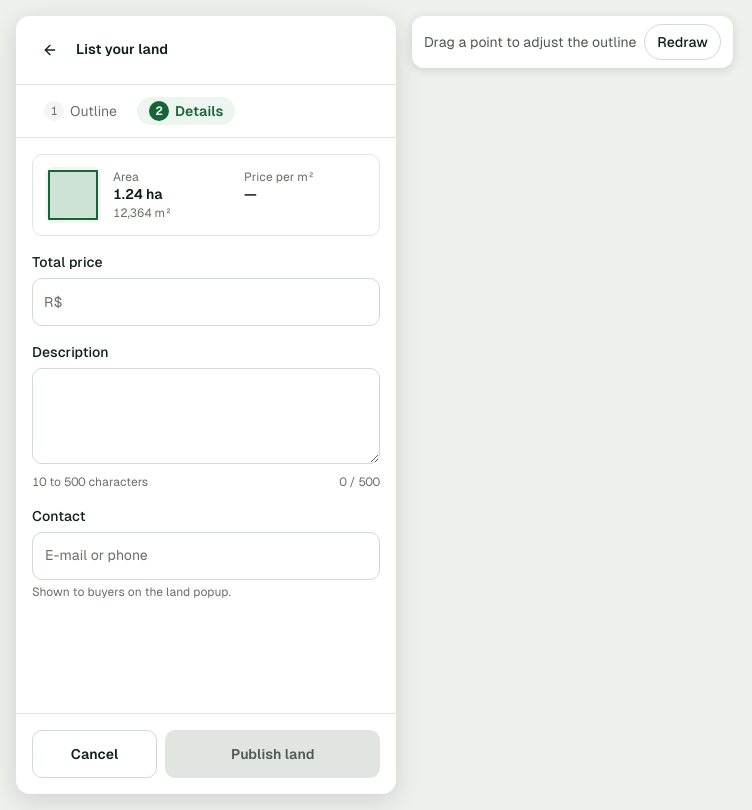
Test: NewLandSession › treats a backend 409 as an overlap, keeping the form filled
Step 1. Type "185000" into the field labelled "Total price" → (206, 302), box x1=32 y1=278 x2=380 y2=326
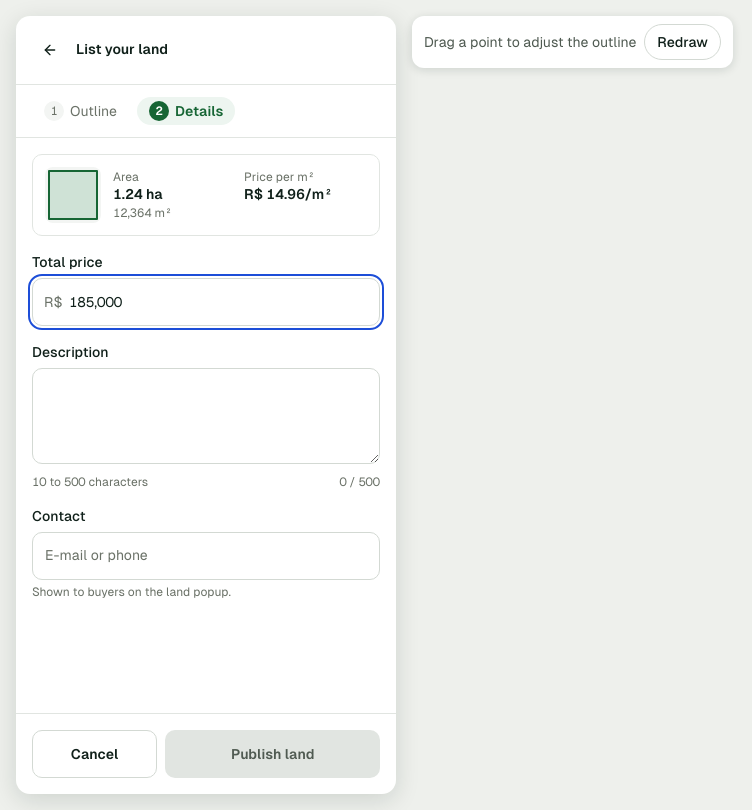
Step 2. Type "Flat land close to the river, ready to build." into the text box labelled "Description" → (206, 416), box x1=32 y1=368 x2=380 y2=464
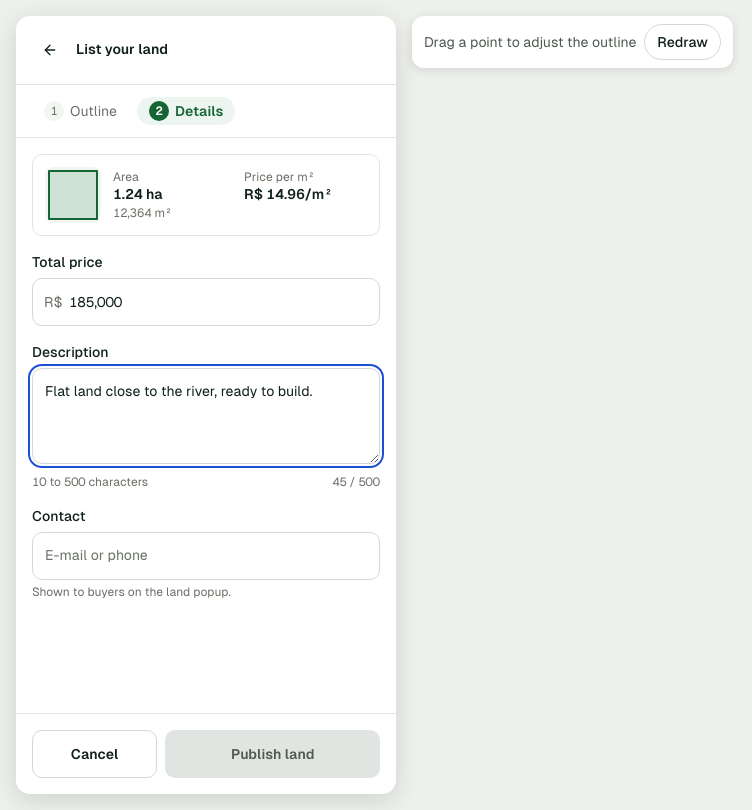
Step 3. Type "owner@example.com" into the field labelled "Contact" → (206, 556), box x1=32 y1=532 x2=380 y2=580
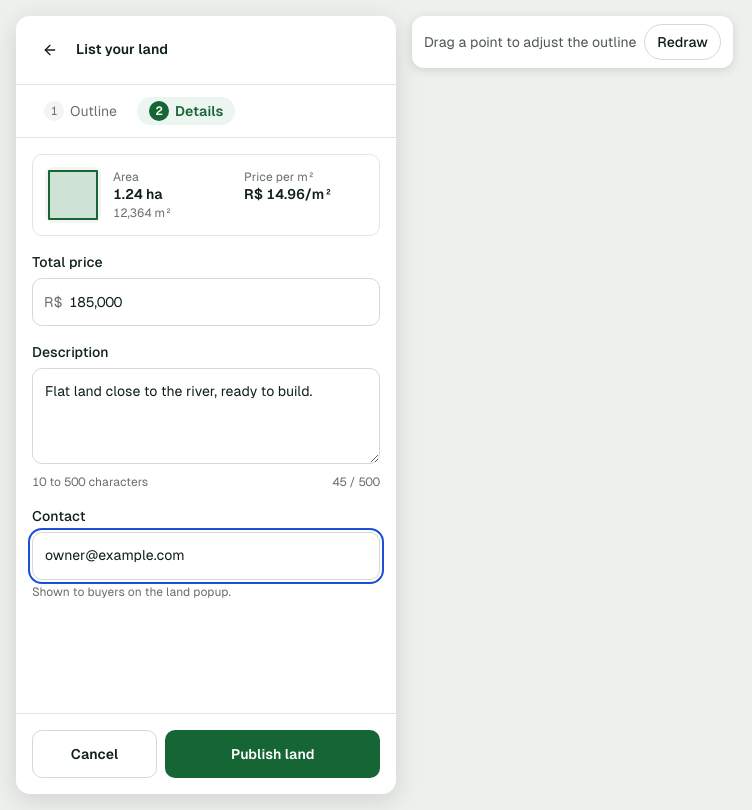
Now the button "Publish land" is enabled
Step 4. Click the button "Publish land" → (273, 754), box x1=165 y1=730 x2=380 y2=778
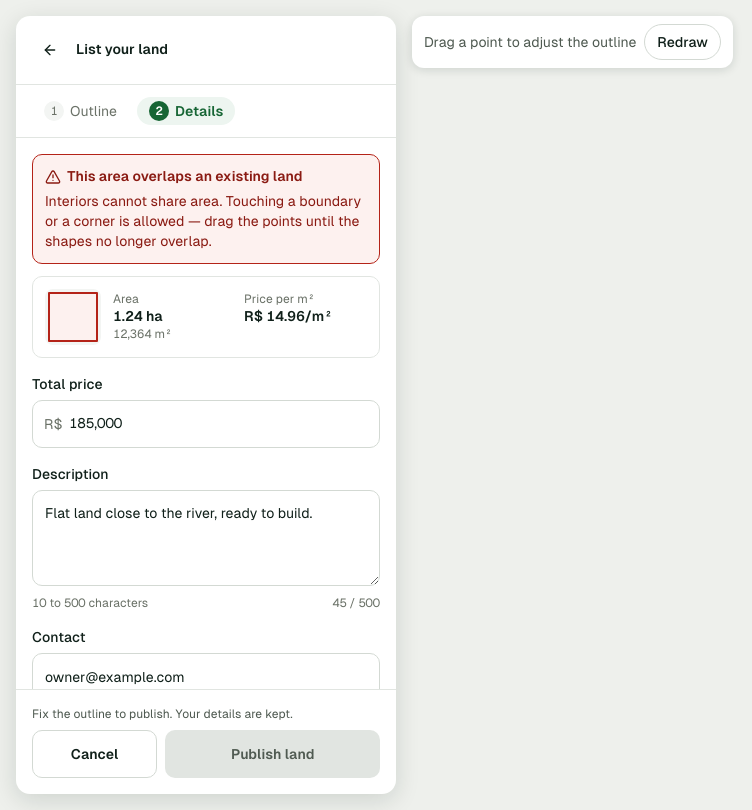
Now the message shows "This area overlaps an existing land", box x1=67 y1=168 x2=302 y2=184
Now the button "Publish land" is disabled, box x1=165 y1=730 x2=380 y2=778
